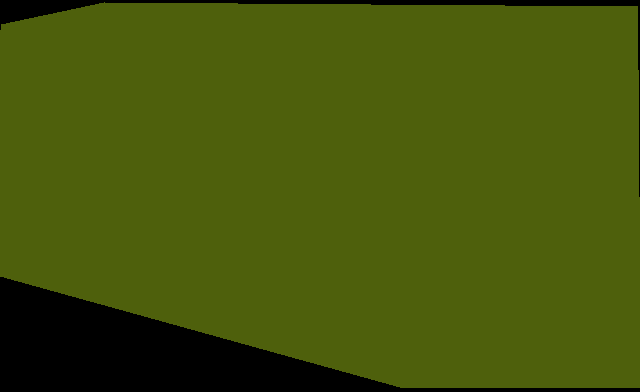Train: (0, 2, 640, 387)
